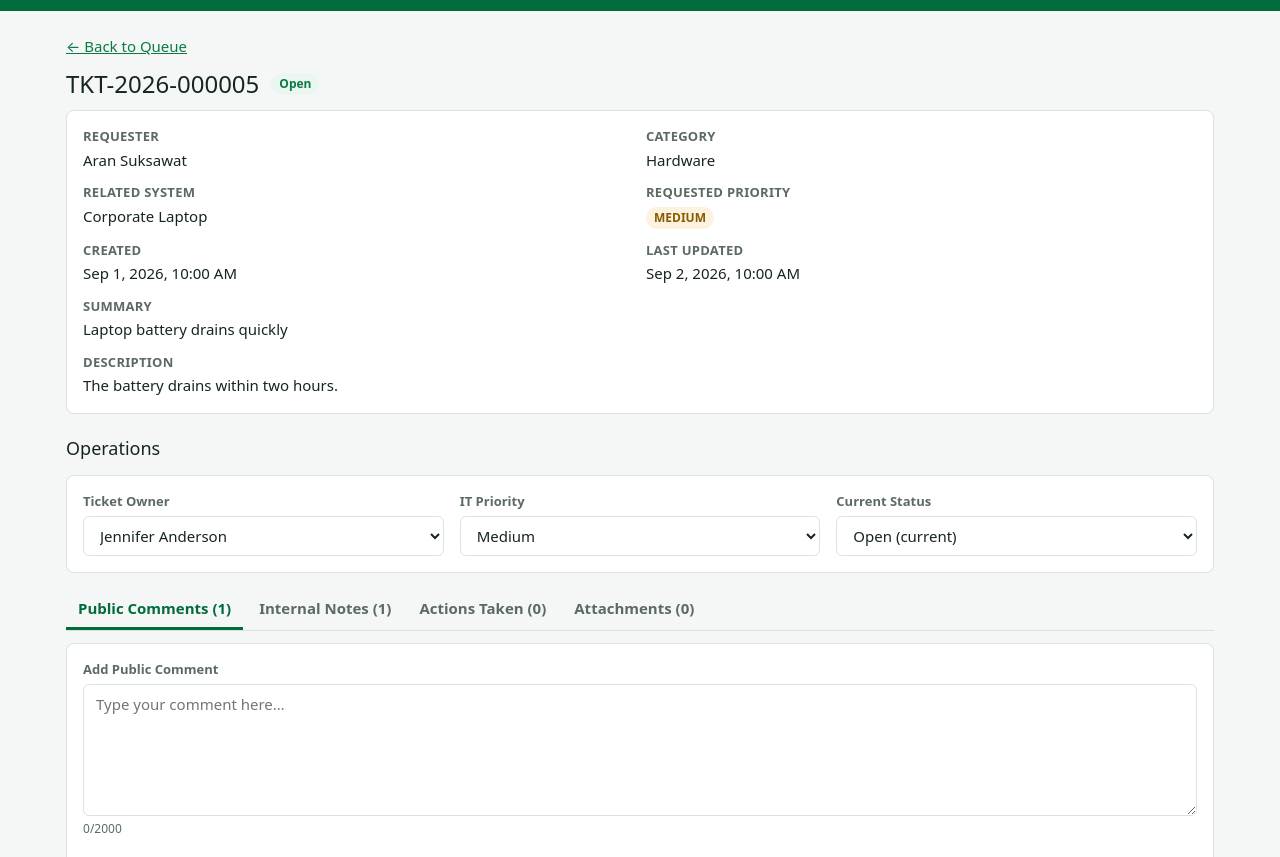
Test case: IT Staff Ticket Detail screen › posts a Public Comment and shows it in the thread
Type "We are on it." into the text box labelled "Add Public Comment" at (640,750), box [83, 684, 1197, 816]
(page scrolled)
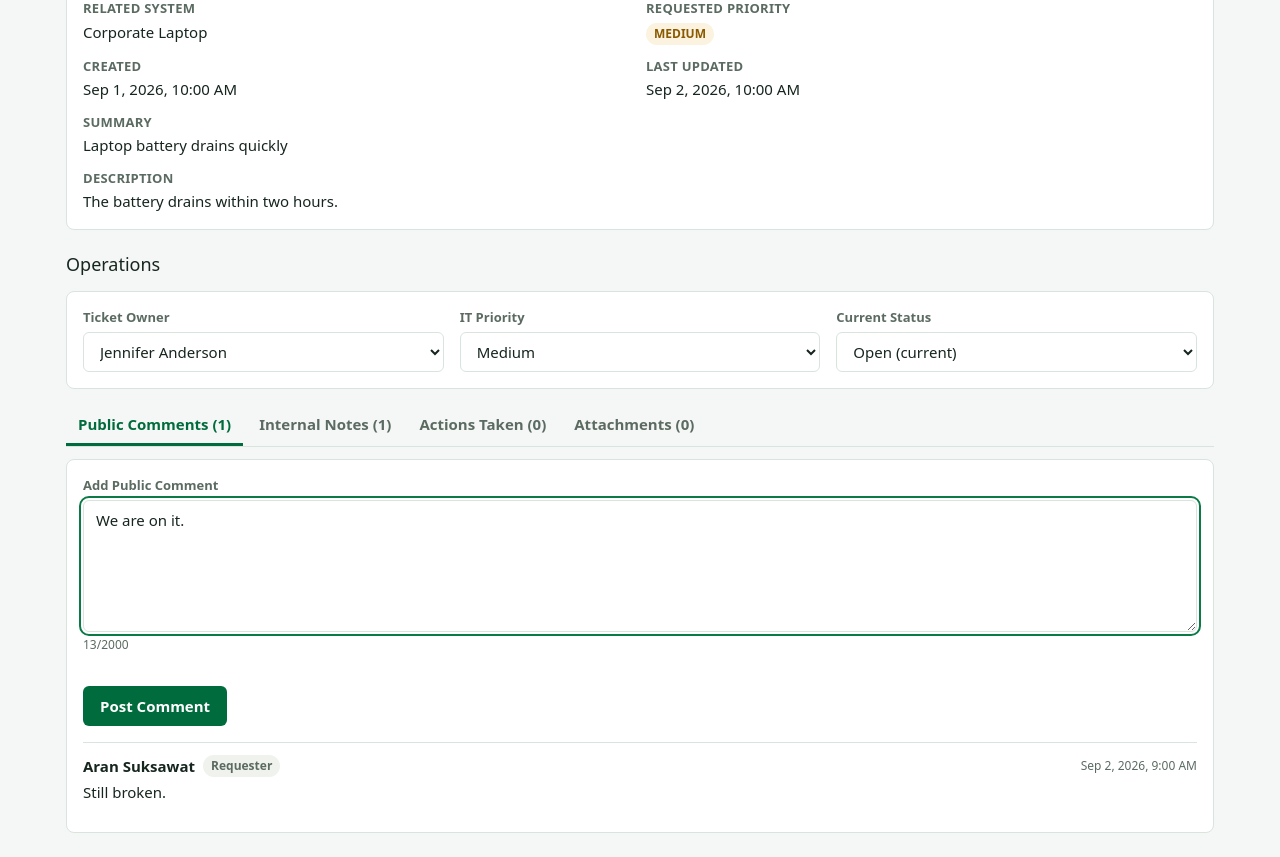
Click the button "Post Comment" at (155,706), box [83, 686, 227, 726]
(page scrolled)
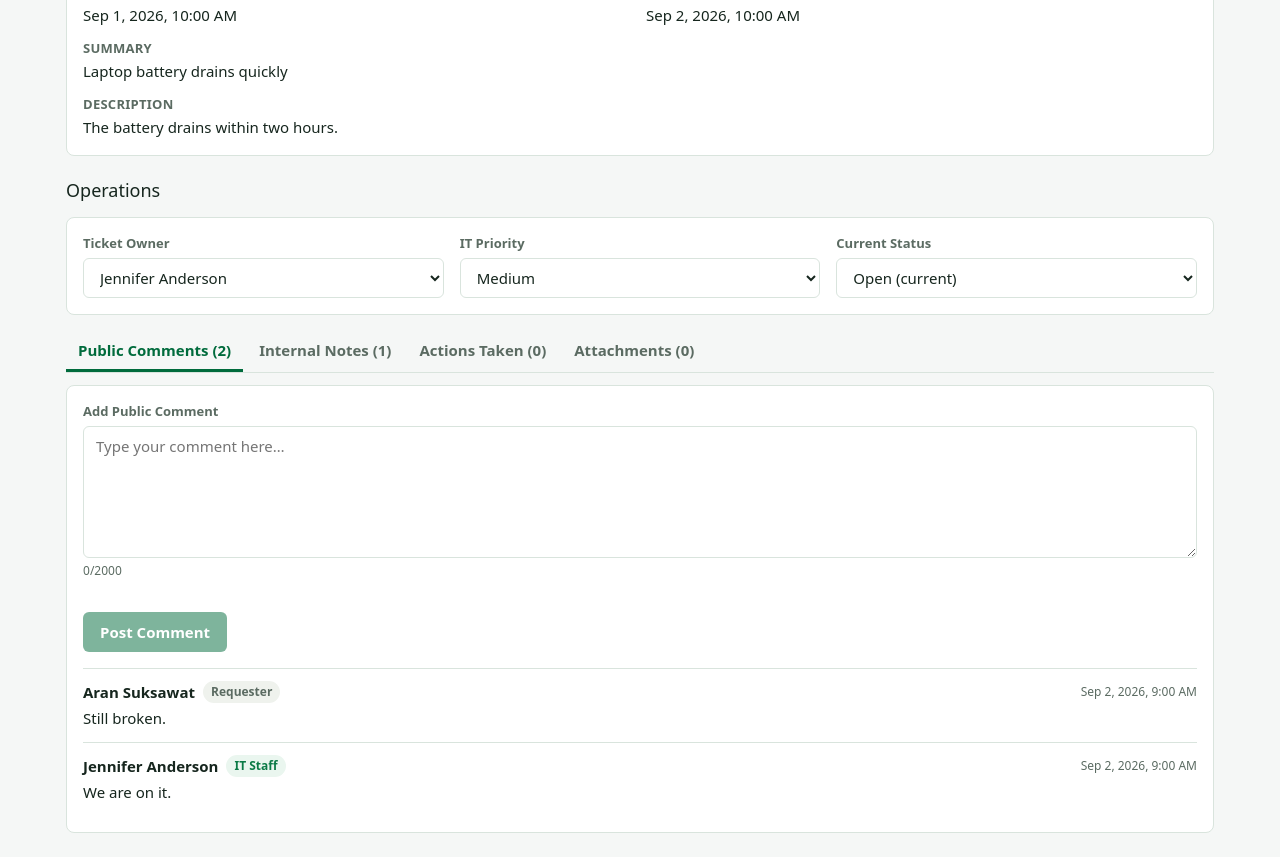
Result: the text "We are on it." is shown at [83, 782, 171, 802]
